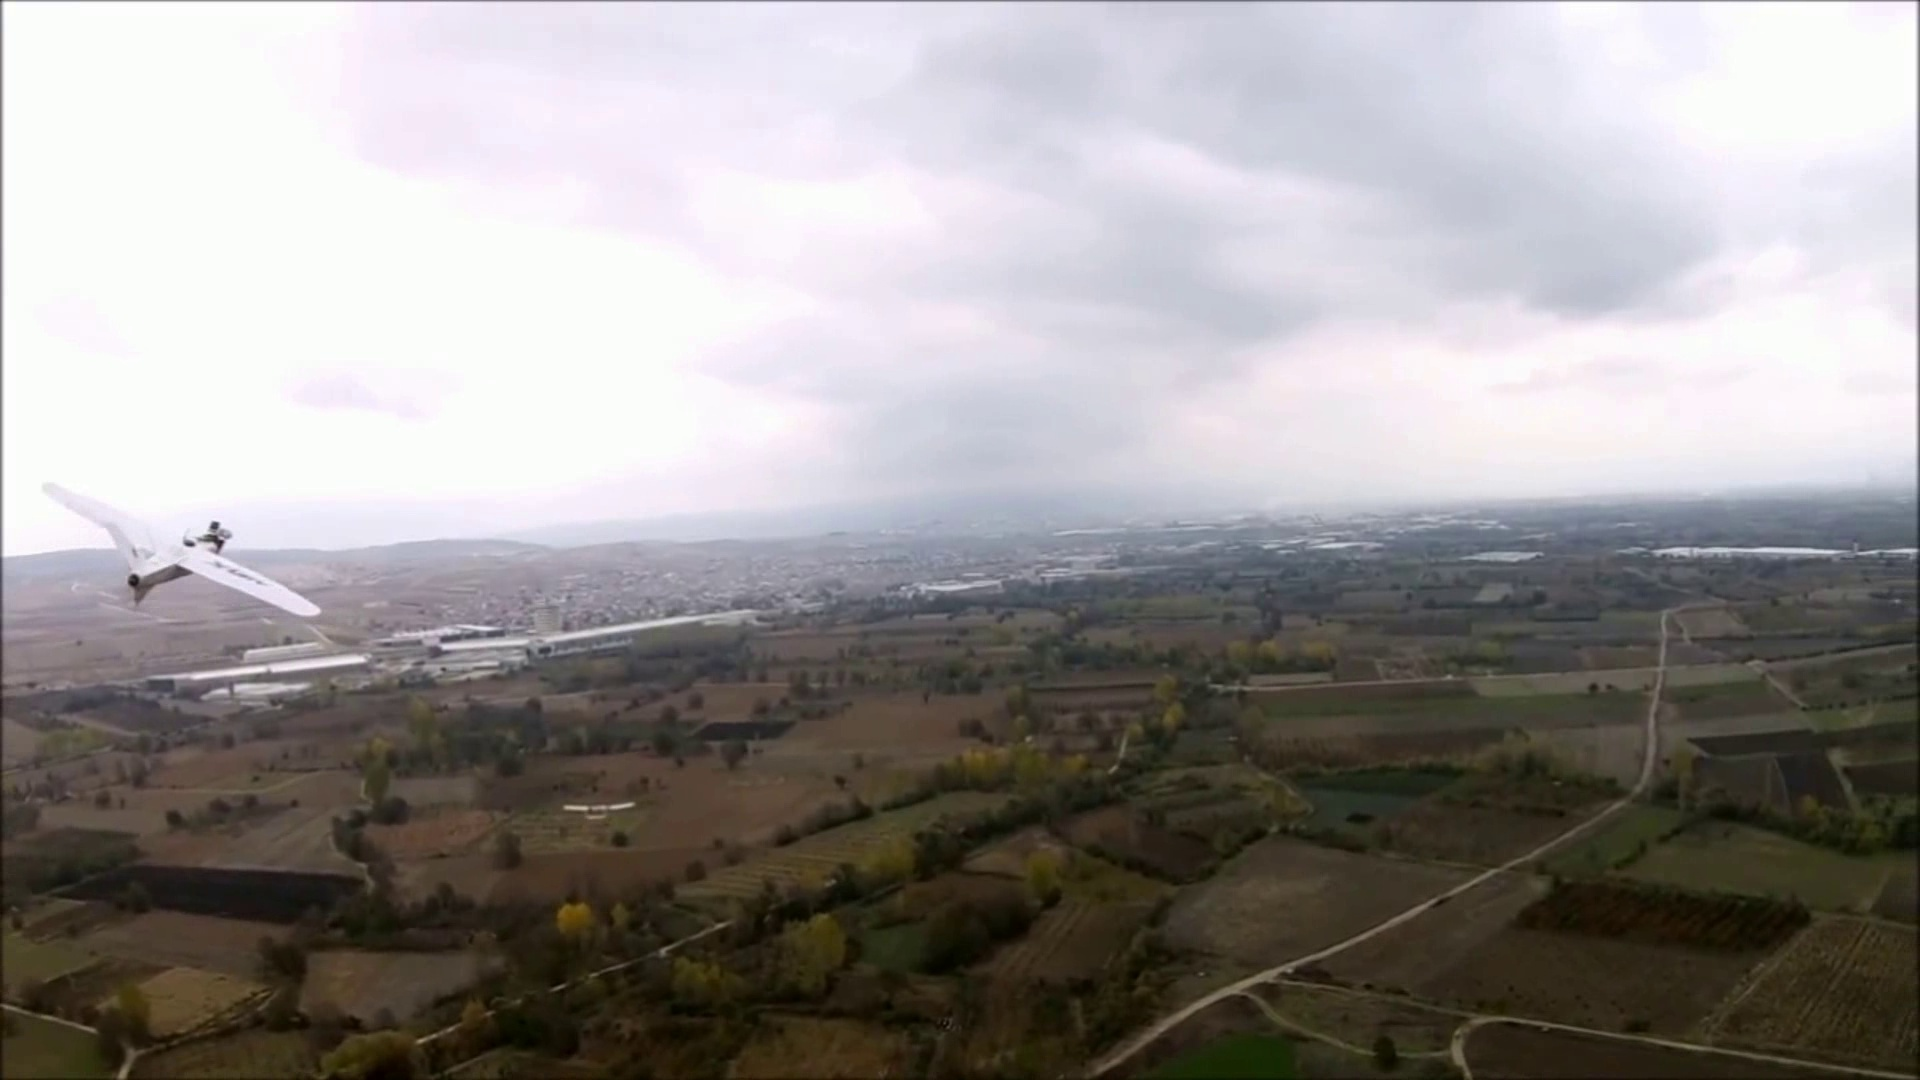airplane: (37, 483, 324, 626)
